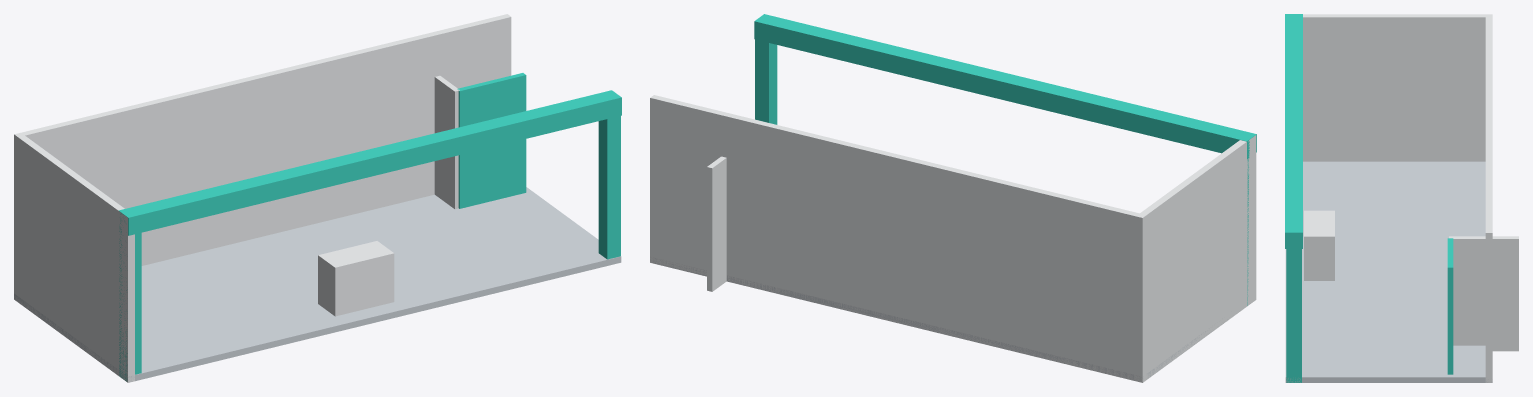
3 renders of one model, left to right at view 1: azimuth 30°, elevation 25°; view 2: azimuth 150°, elevation 25°; view 3: azimuth 270°, elevation 25°, orthographic. The views are drawn at different scales.
Parts seen in each view (by area): view 1: Exhibition Booth Concept; view 2: Exhibition Booth Concept; view 3: Exhibition Booth Concept.
Part boxes in pixels (left/top/right/bottom): Exhibition Booth Concept: left=14, top=14, right=621, bottom=382; Exhibition Booth Concept: left=650, top=14, right=1256, bottom=382; Exhibition Booth Concept: left=1285, top=14, right=1518, bottom=382.
Size of the model in its own units: 10 by 3.2 by 4.52.
